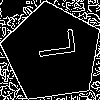L: (27, 27, 76, 62)
